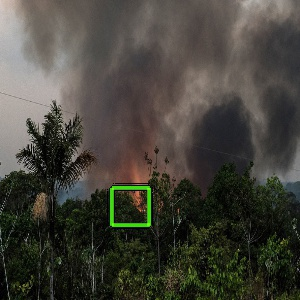square: (108, 184, 152, 228)
